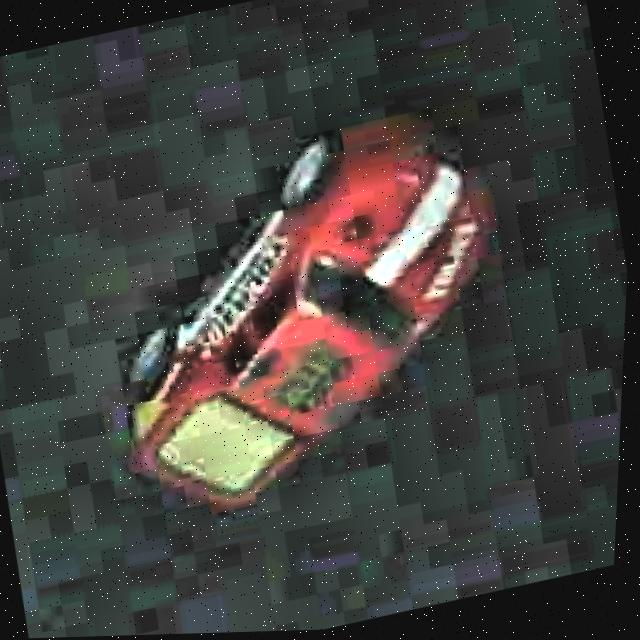car: (72, 88, 542, 538)
